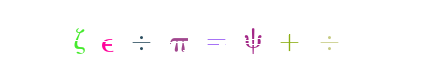1: (177, 0, 257, 80)
4: (101, 0, 181, 80), (249, 0, 329, 80)
5: (162, 0, 242, 80)
C: (175, 0, 255, 80)
E: (66, 0, 146, 80)
P: (150, 0, 230, 80)
Z: (38, 0, 118, 80)
